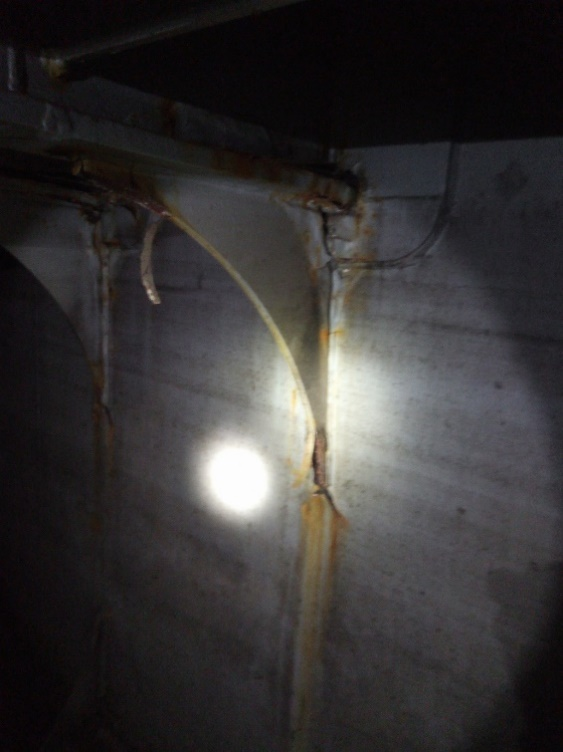corrosion: (286, 488, 350, 725), (274, 166, 372, 227)
